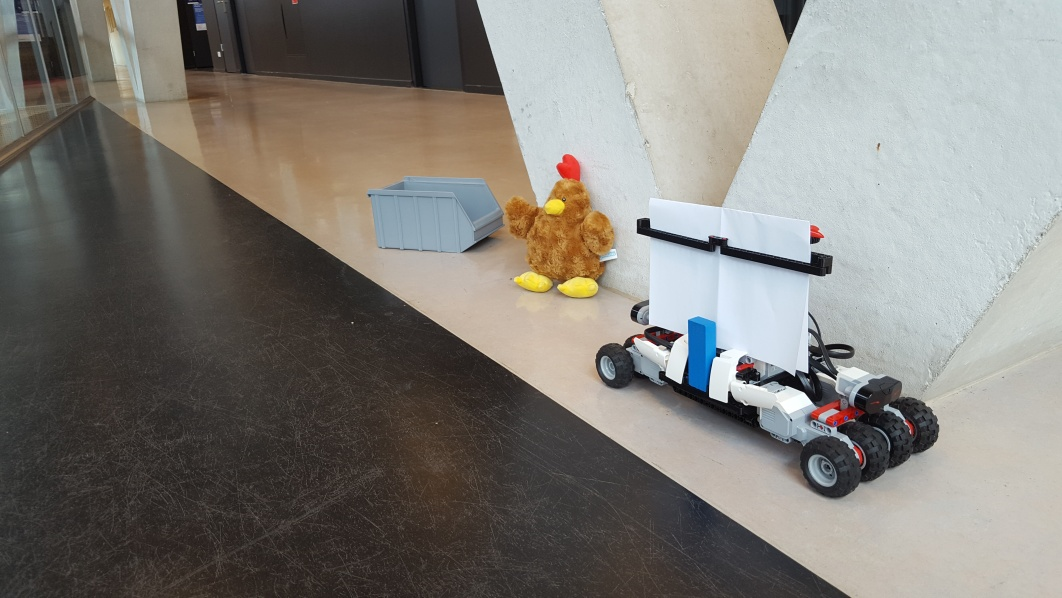beam: (686, 315, 716, 392)
chicken: (505, 152, 618, 298)
tray: (367, 173, 504, 256)
